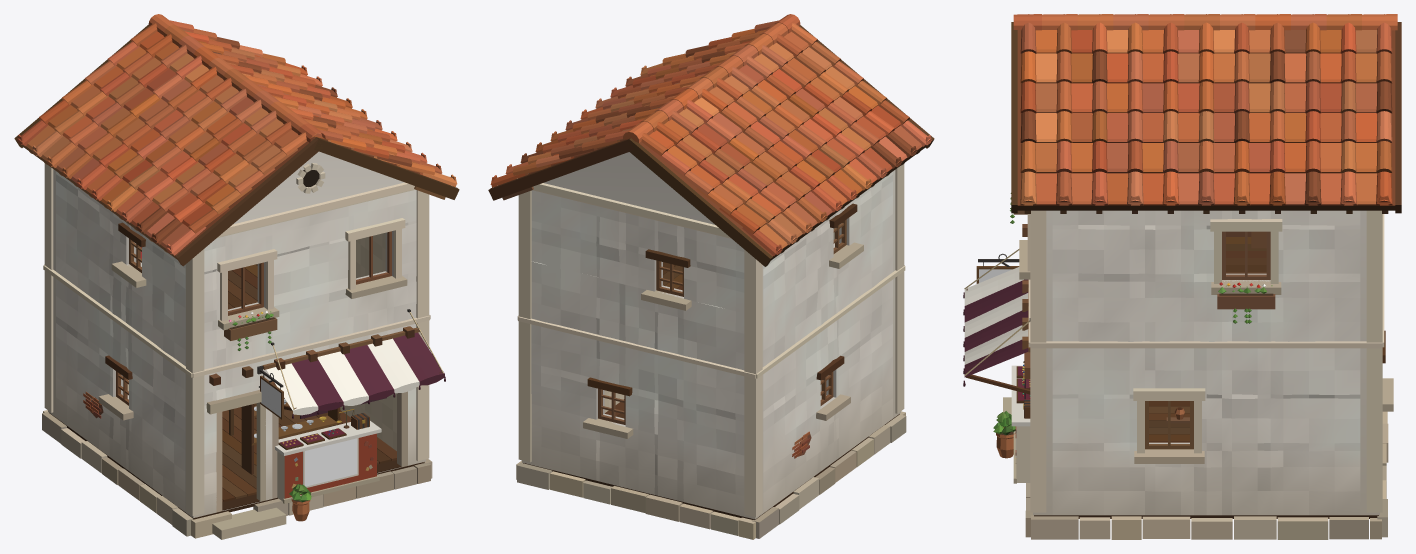
The model's file is shop_jeweler.glb.
3 views of the same model, side by side, from view 1: azimuth 30°, elevation 25°; view 2: azimuth 150°, elevation 25°; view 3: azimuth 270°, elevation 25° (orthographic). The views are drawn at different scales.
Visible parts, largest first — view 1: House, Walls, Rooms; view 2: Walls, House, Rooms; view 3: House, Walls, Rooms.
Part boxes in pixels (<box>): House: <box>14,14,459,539</box>; Walls: <box>48,151,425,517</box>; Rooms: <box>127,233,396,502</box>; Walls: <box>522,152,900,519</box>; House: <box>488,14,934,539</box>; Rooms: <box>604,228,834,418</box>; House: <box>963,14,1401,539</box>; Walls: <box>1033,210,1379,515</box>; Rooms: <box>1149,231,1266,442</box>.
Bounding box in the file's own units: 4.44 × 5.63 × 4.93.
Materials: 7 (7 with a texture image).
